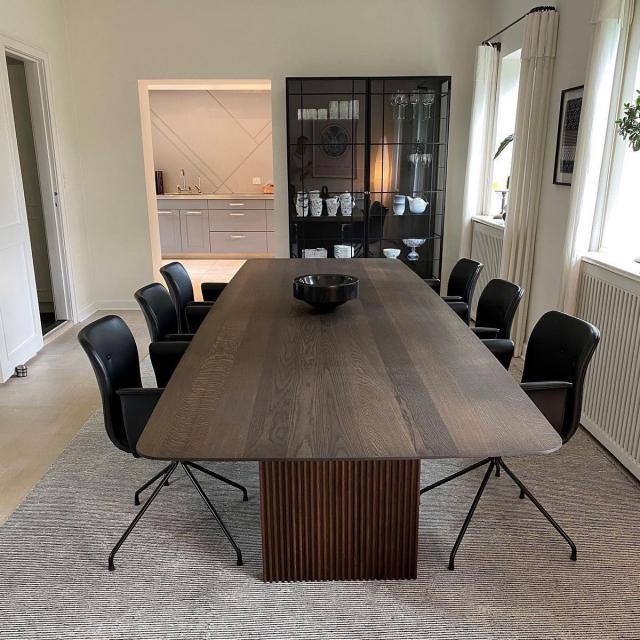table: (111, 222, 597, 547)
